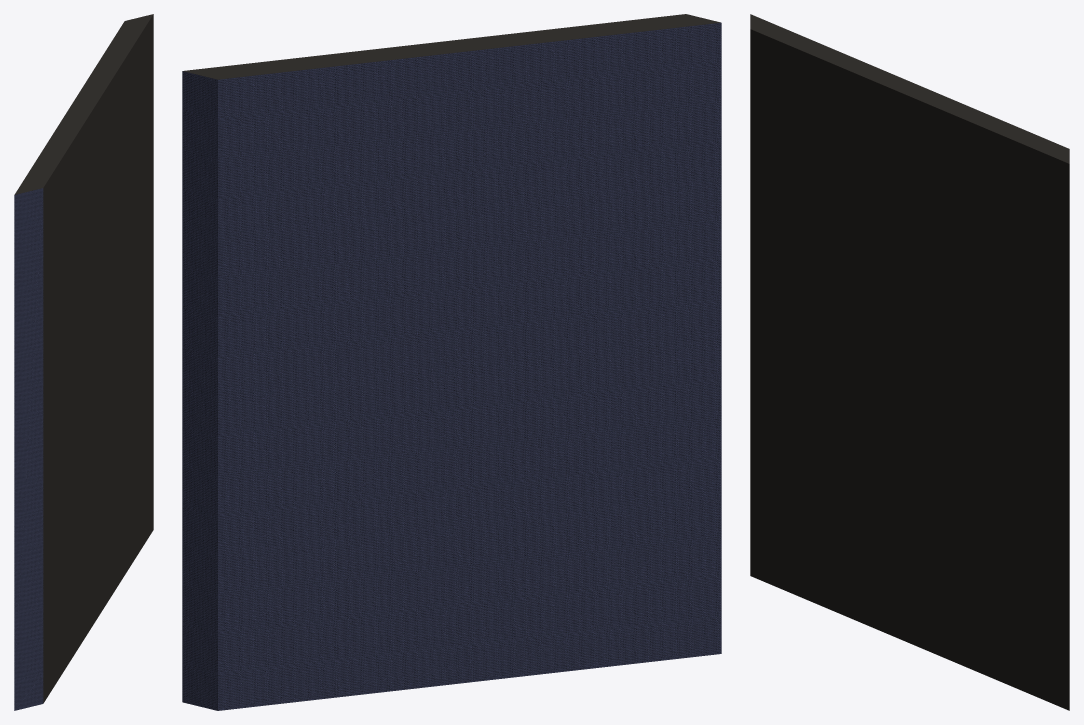
Rendered from GYM_BLUE_Wall_2.fbx.
3 views of the same model, side by side, from view 1: azimuth 30°, elevation 25°; view 2: azimuth 150°, elevation 25°; view 3: azimuth 270°, elevation 25° (orthographic). The views are drawn at different scales.
Parts seen in each view (by area): view 1: GYM_Wall_Blue_DIAG; view 2: GYM_Wall_Blue_DIAG; view 3: GYM_Wall_Blue_DIAG.
Part boxes in pixels (x1,y1,x2,y2): GYM_Wall_Blue_DIAG: [14, 14, 153, 710]; GYM_Wall_Blue_DIAG: [182, 14, 721, 710]; GYM_Wall_Blue_DIAG: [750, 14, 1069, 710].
Size of the model in its own units: 5 by 8.5 by 4.5.
Materials: 2 (1 with a texture image).
